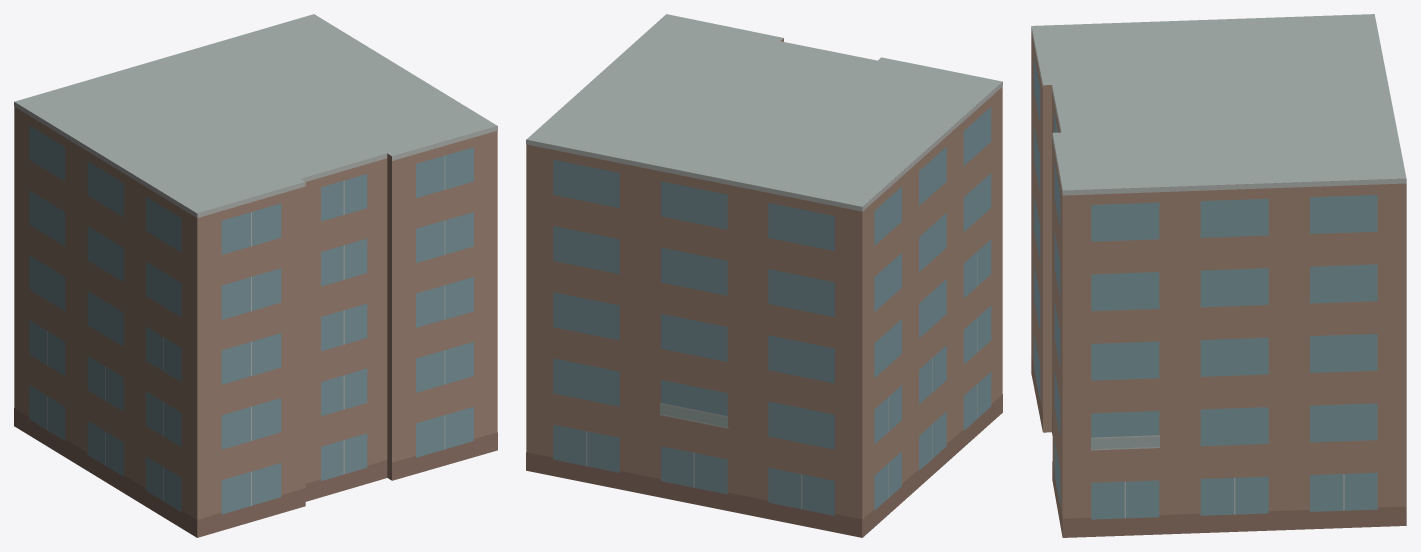
The model's file is survey-upis-32636505.glb.
3 renders of one model, left to right at view 1: azimuth 30°, elevation 25°; view 2: azimuth 150°, elevation 25°; view 3: azimuth 270°, elevation 25°, orthographic. The views are drawn at different scales.
Visible parts, largest first — view 1: survey-upis-32636505.tmp; view 2: survey-upis-32636505.tmp; view 3: survey-upis-32636505.tmp.
Boxes of the visible parts, x1=… form: survey-upis-32636505.tmp: x1=14, y1=14, x2=497, y2=537; survey-upis-32636505.tmp: x1=526, y1=14, x2=1002, y2=537; survey-upis-32636505.tmp: x1=1031, y1=14, x2=1406, y2=537.
Bounding box in the file's own units: 18.32 × 16.8 × 16.45.
